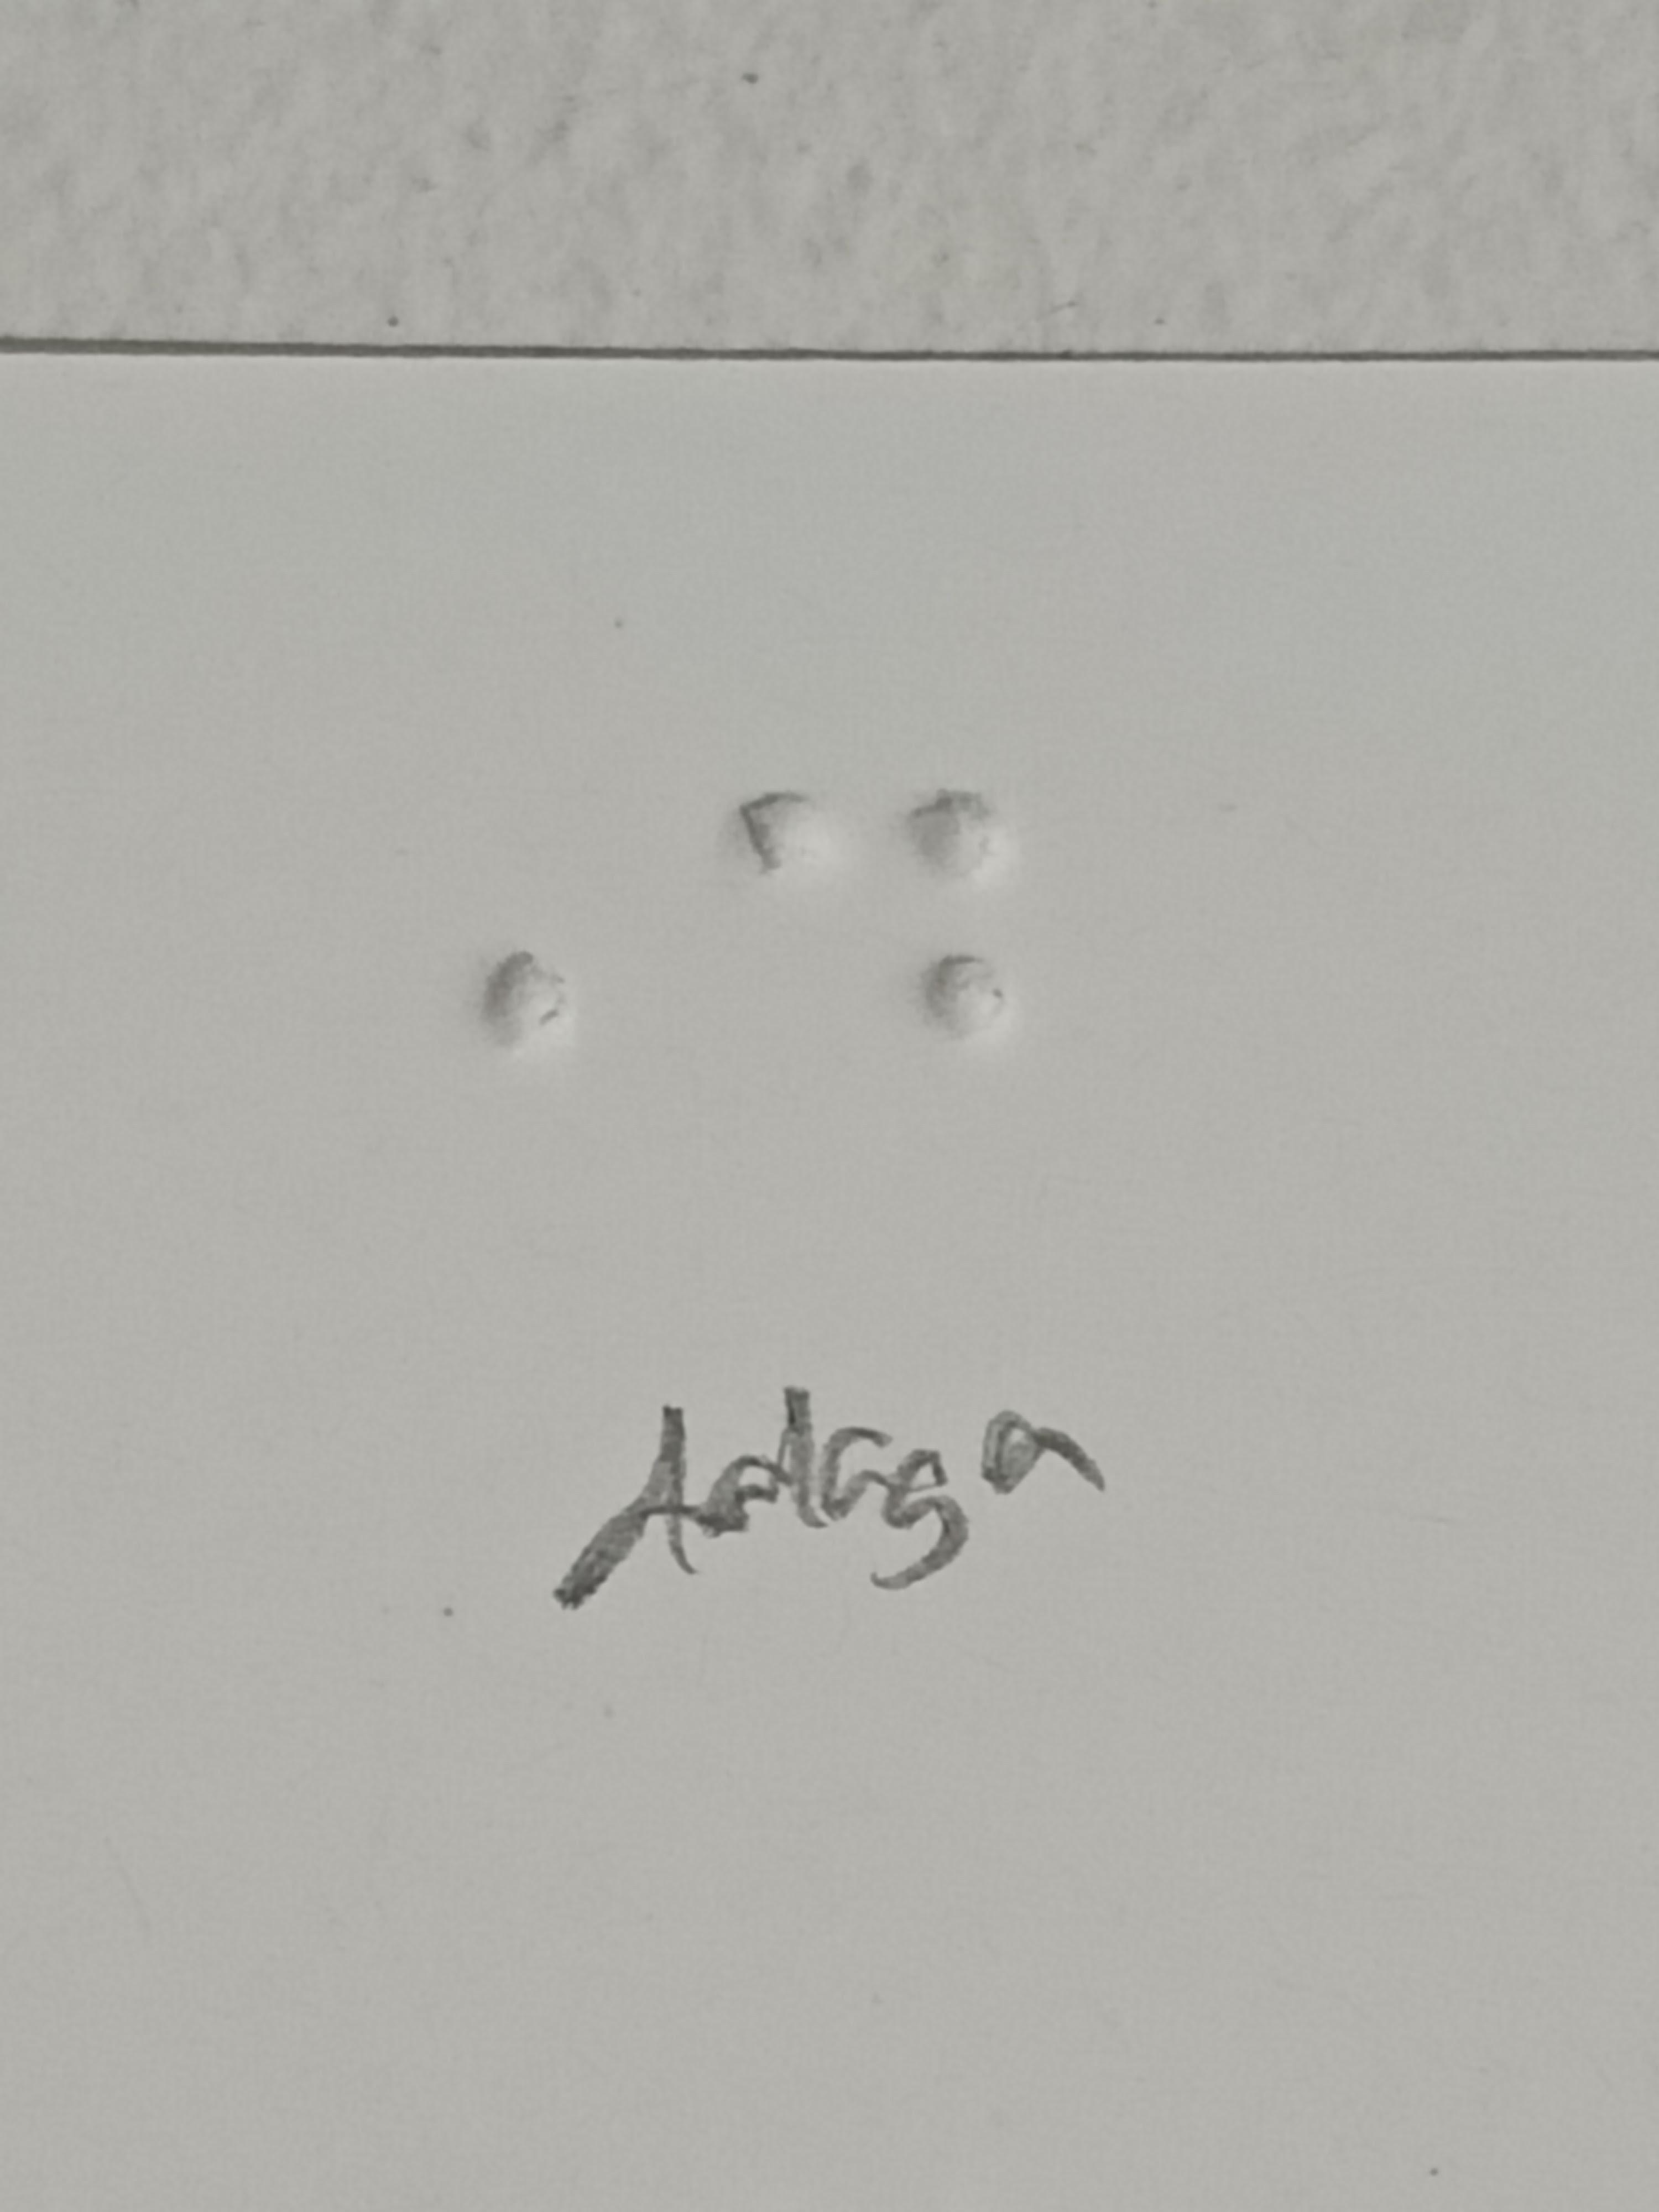dot_5: (307, 786, 572, 1202)
two_cell_alphabet_dalaga: (737, 786, 1000, 1202)
